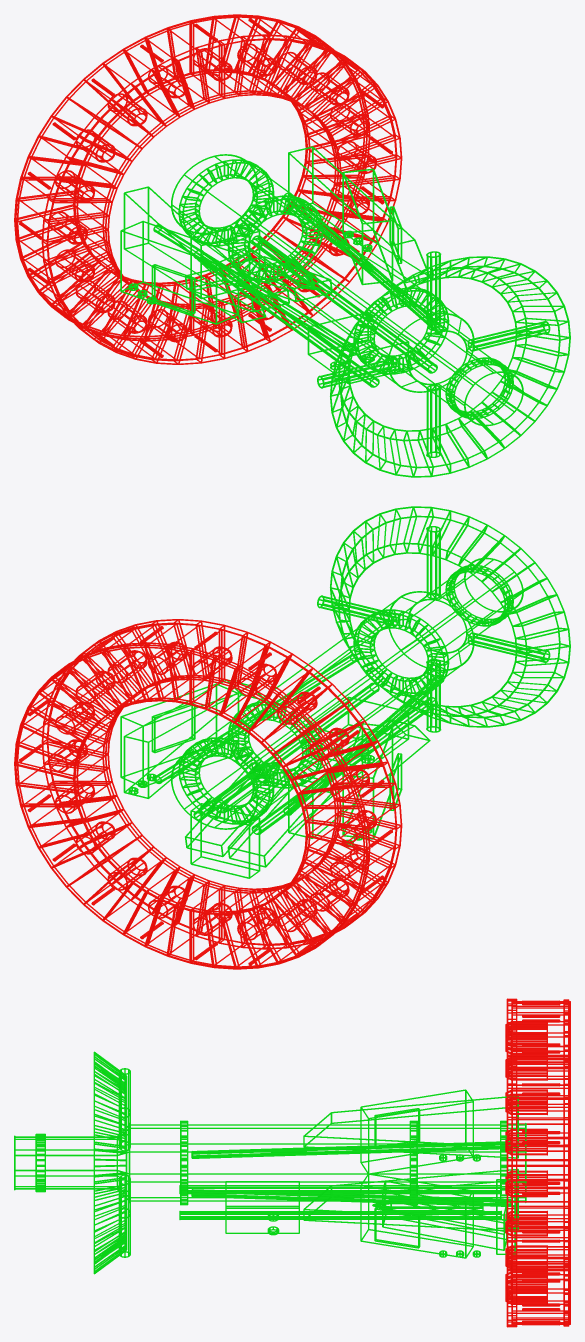
File: missile-bay-extension-highlight-revolving-storage-rack.glb
The picture shows the model from 3 angles, top to bottom: view 1: azimuth 30°, elevation 25°; view 2: azimuth 150°, elevation 25°; view 3: azimuth 270°, elevation 25°; orthographic projection. The views are drawn at different scales.
Visible parts, largest first — view 1: revolving-storage-rack technical wire, chassis technical wire, missile-loading-assembly technical wire, targeting-control technical wire; view 2: revolving-storage-rack technical wire, chassis technical wire, missile-loading-assembly technical wire, targeting-control technical wire; view 3: chassis technical wire, revolving-storage-rack technical wire, missile-loading-assembly technical wire, targeting-control technical wire.
Boxes of the visible parts, x1,y1,x2,y2 form: revolving-storage-rack technical wire: (14, 14, 402, 364); chassis technical wire: (123, 146, 570, 477); missile-loading-assembly technical wire: (185, 223, 437, 387); targeting-control technical wire: (120, 168, 402, 324); revolving-storage-rack technical wire: (14, 619, 402, 969); chassis technical wire: (123, 506, 570, 838); missile-loading-assembly technical wire: (185, 682, 437, 878); targeting-control technical wire: (120, 683, 402, 847); chassis technical wire: (14, 1051, 526, 1274); revolving-storage-rack technical wire: (505, 998, 570, 1327); missile-loading-assembly technical wire: (179, 1179, 515, 1254); targeting-control technical wire: (360, 1089, 480, 1258).
Size of the model in its own units: 2.45 by 2.08 by 3.64.
